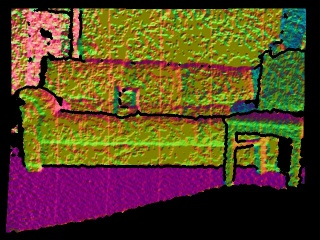station: (114, 87, 141, 116)
